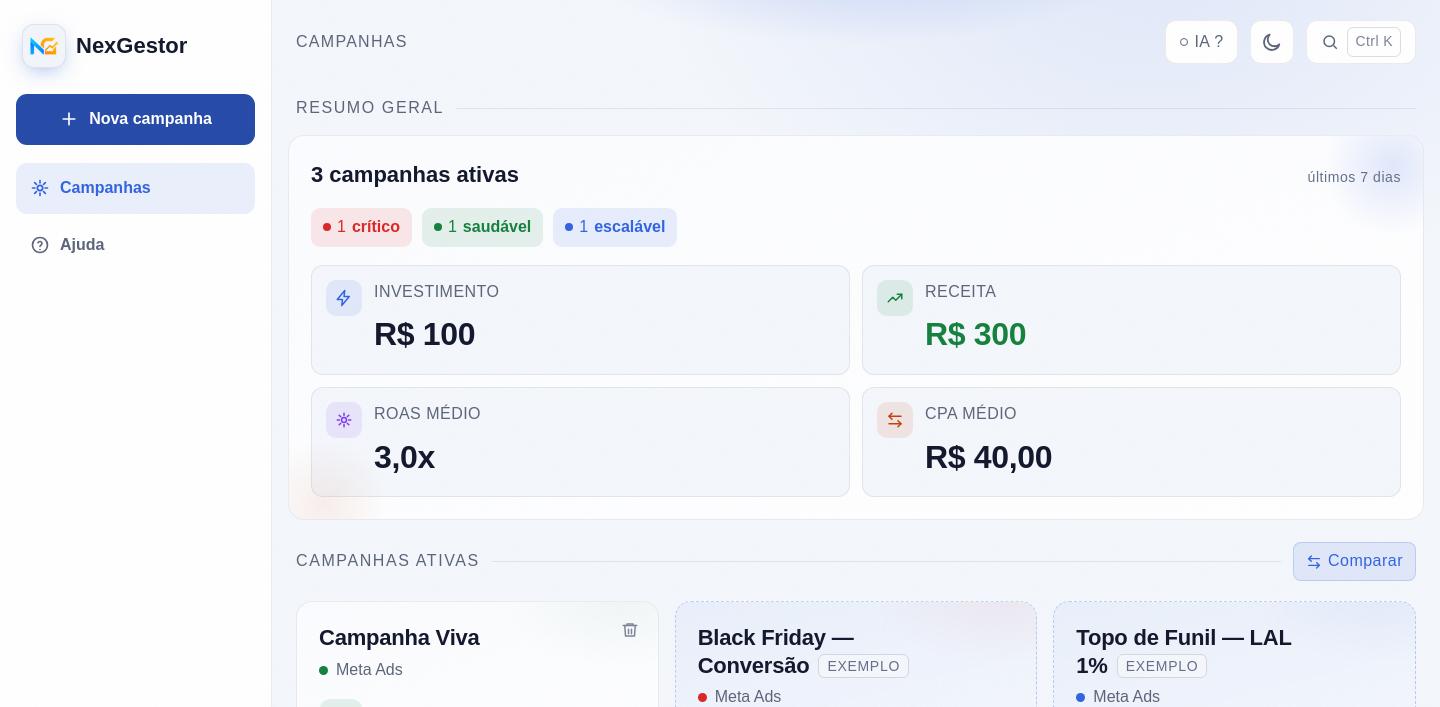
Test case: apagar pela Home › some da tela e do armazenamento local, e avisa o servidor
Click the button named "Apagar campanha Campanha Viva". click: x=630, y=630
box: [610,610,650,650]
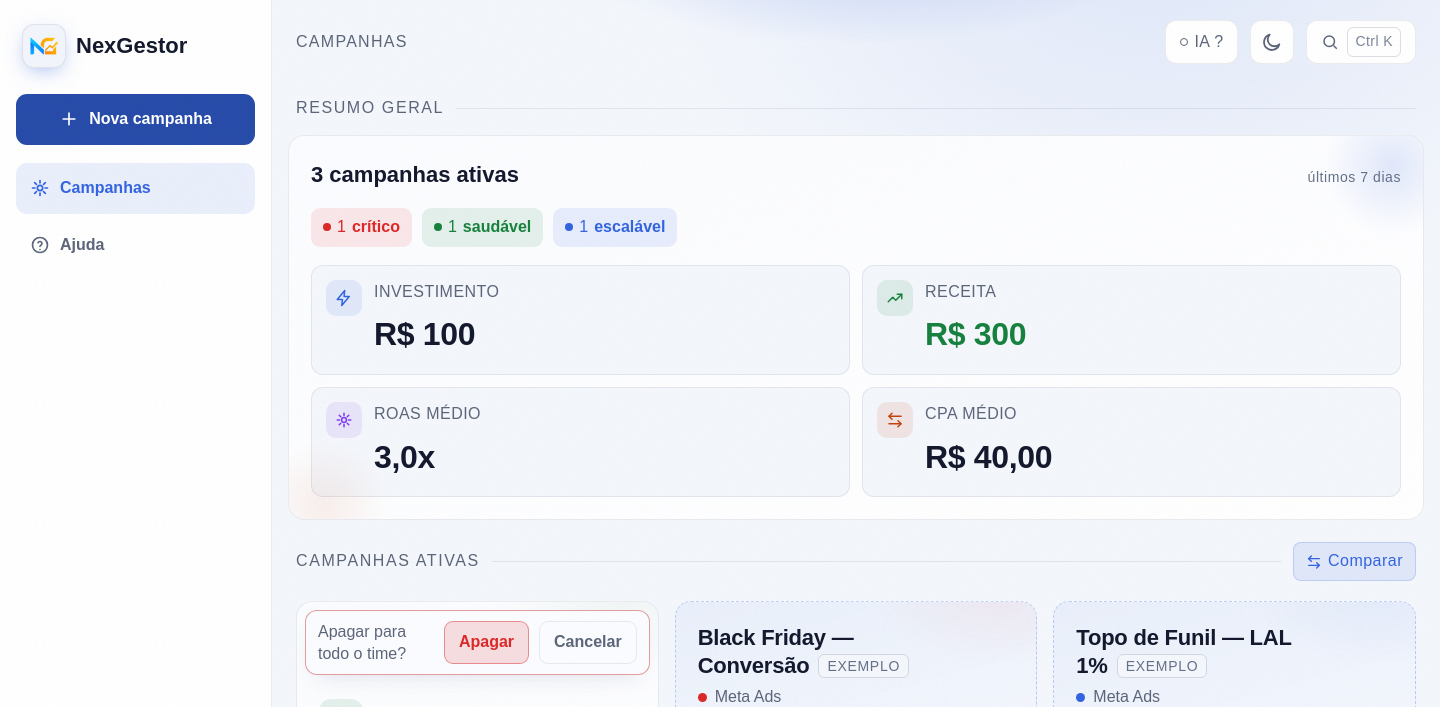
Click the button "Apagar". click: x=486, y=643
box: [444,622,529,664]
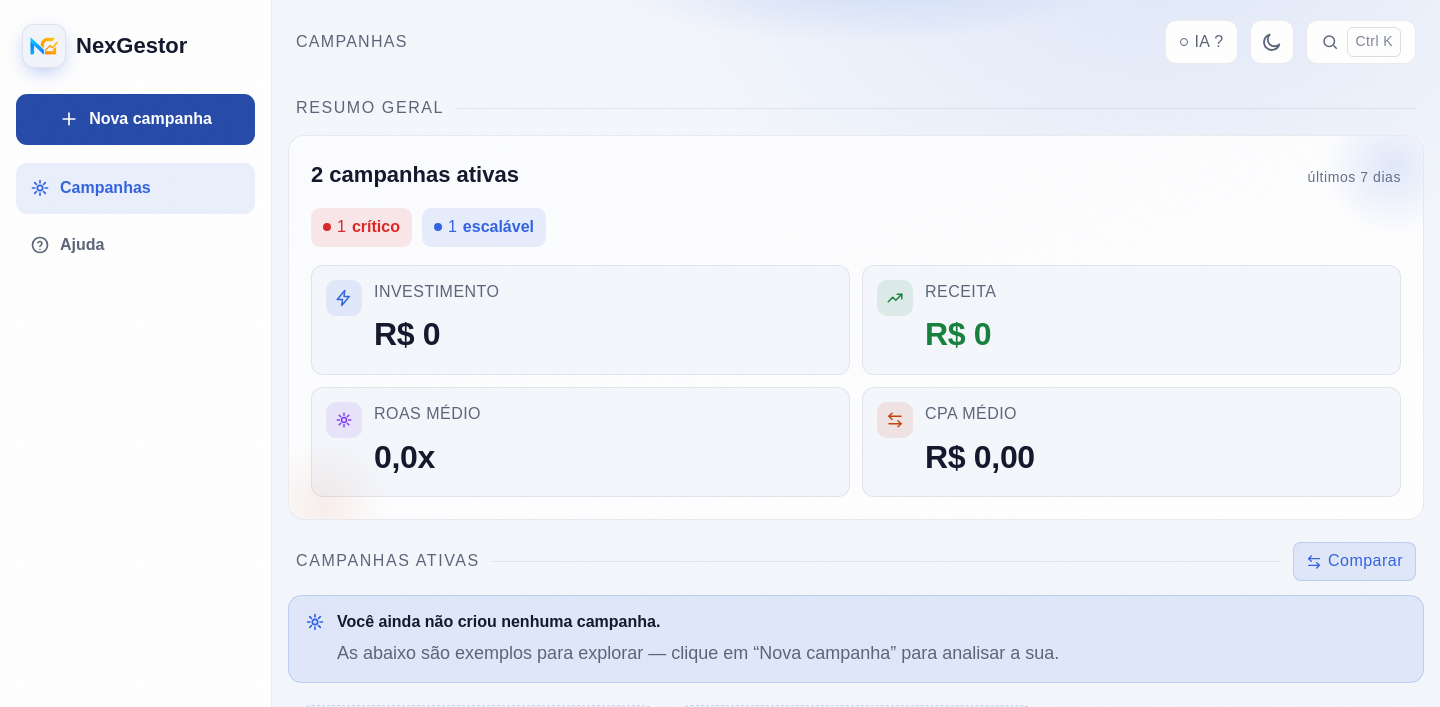
expect the button "Campanha Viva" is gone: met
